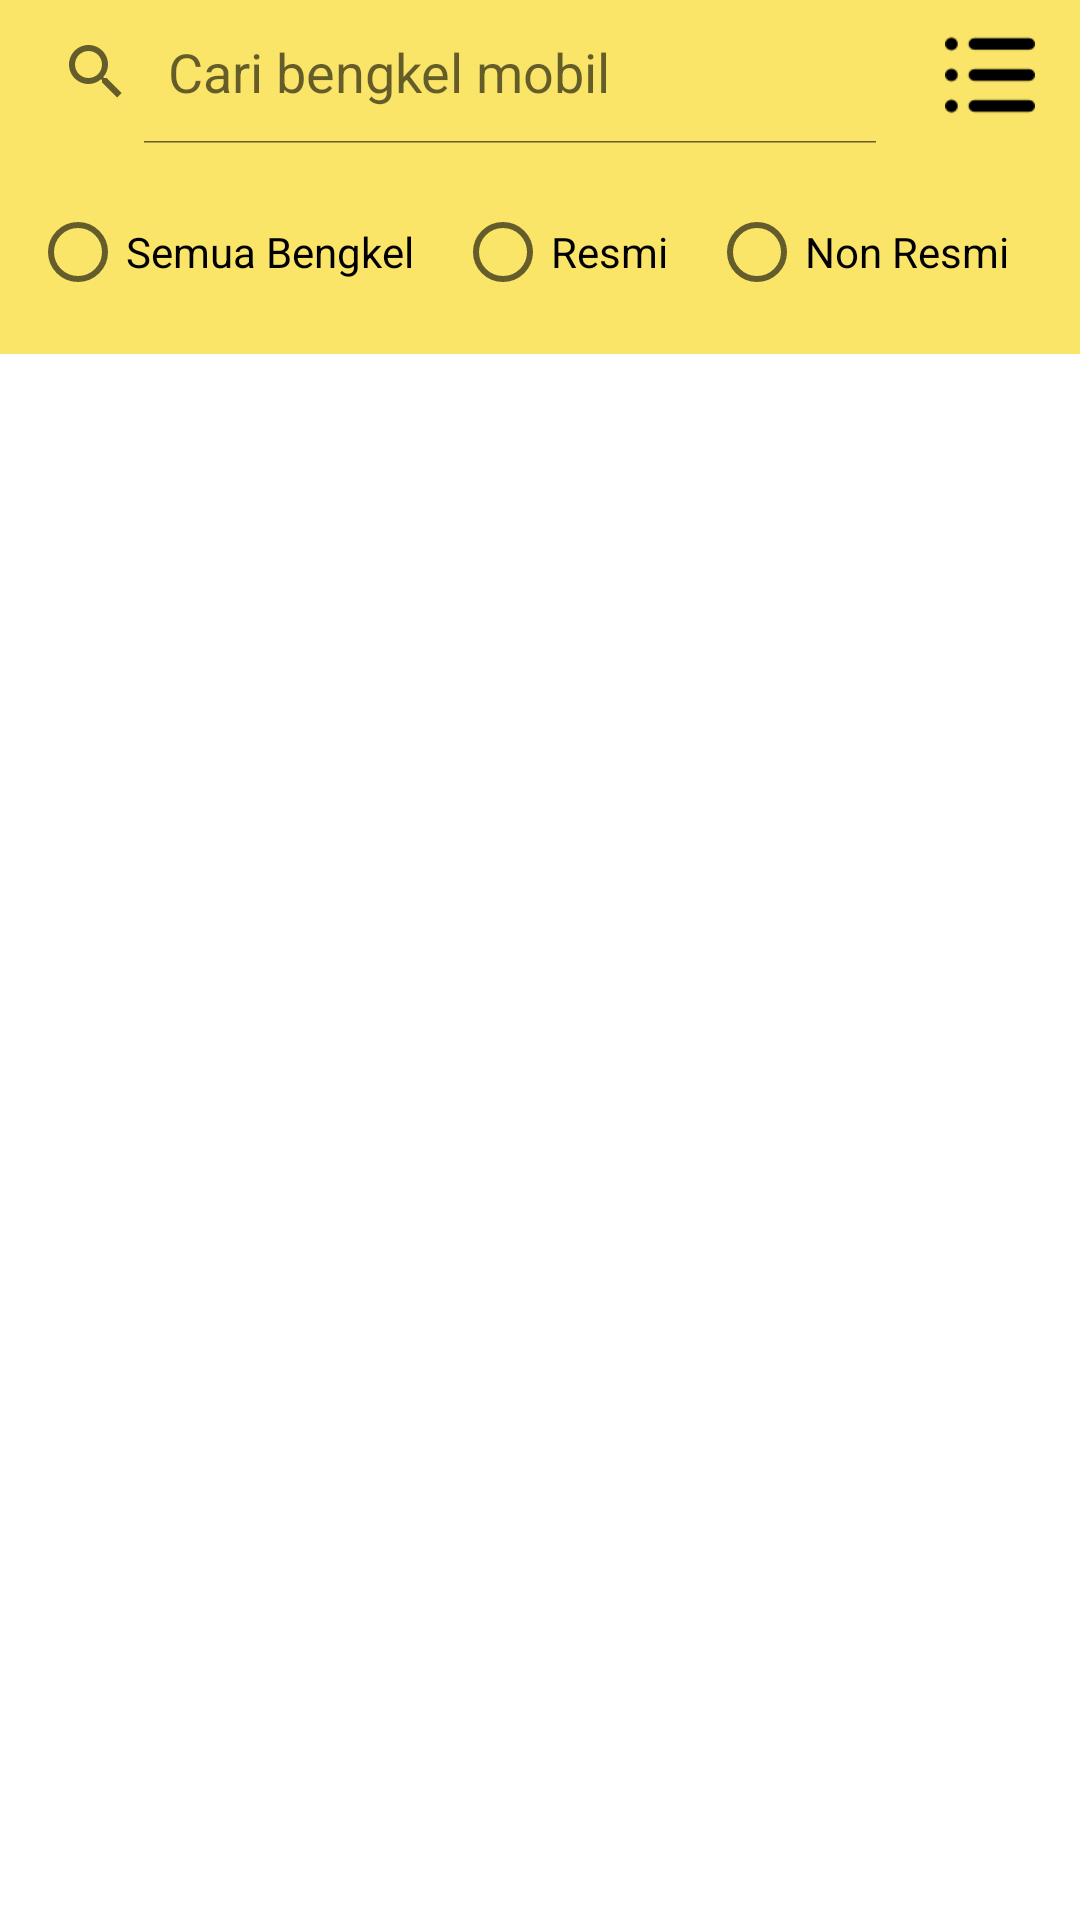

Screen size 1080 x 1920. Icon name, then its box in pixels as (x1, y1, x2, y2):
list view: (945, 37, 1035, 113)
